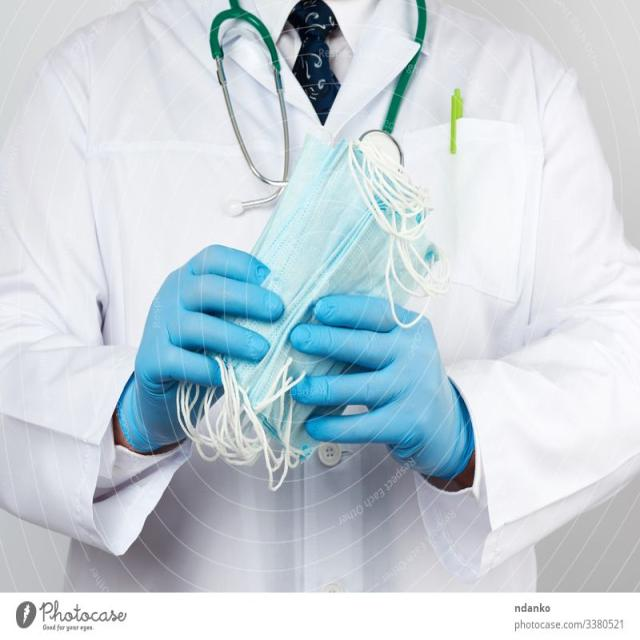Gloves: (110, 225, 289, 463), (297, 284, 462, 530)
